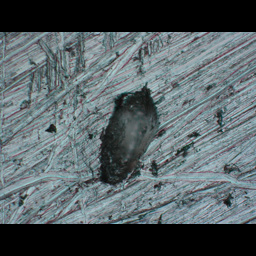d: (94, 83, 161, 190)
